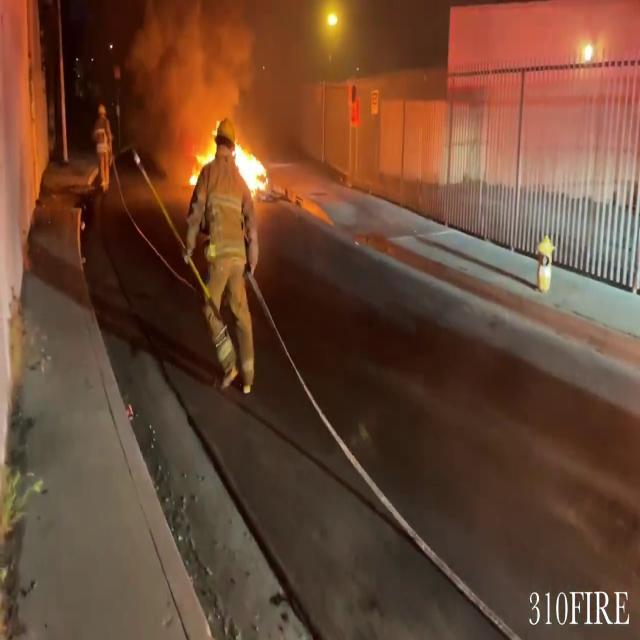Fire: (227, 132, 274, 201)
Smoke: (125, 0, 268, 143)
